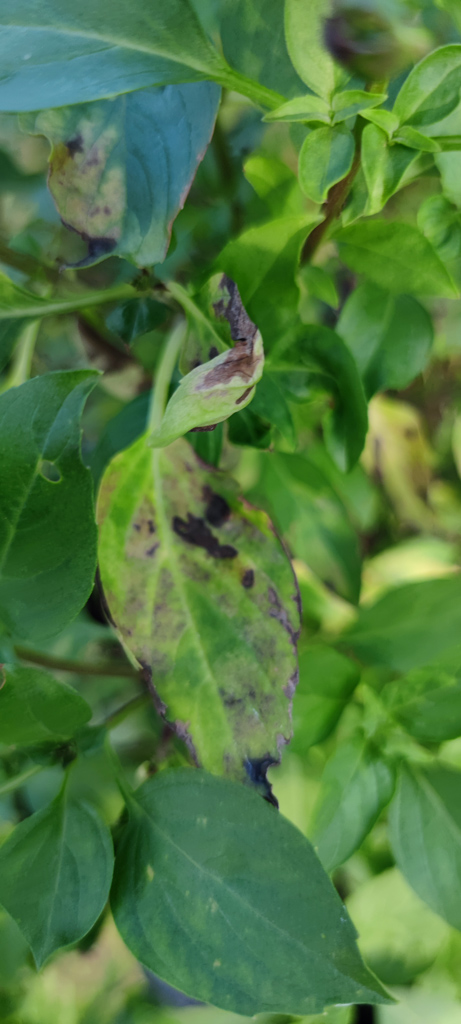Canker: (39, 123, 139, 292), (183, 268, 276, 411), (123, 656, 208, 761), (165, 480, 259, 566)
